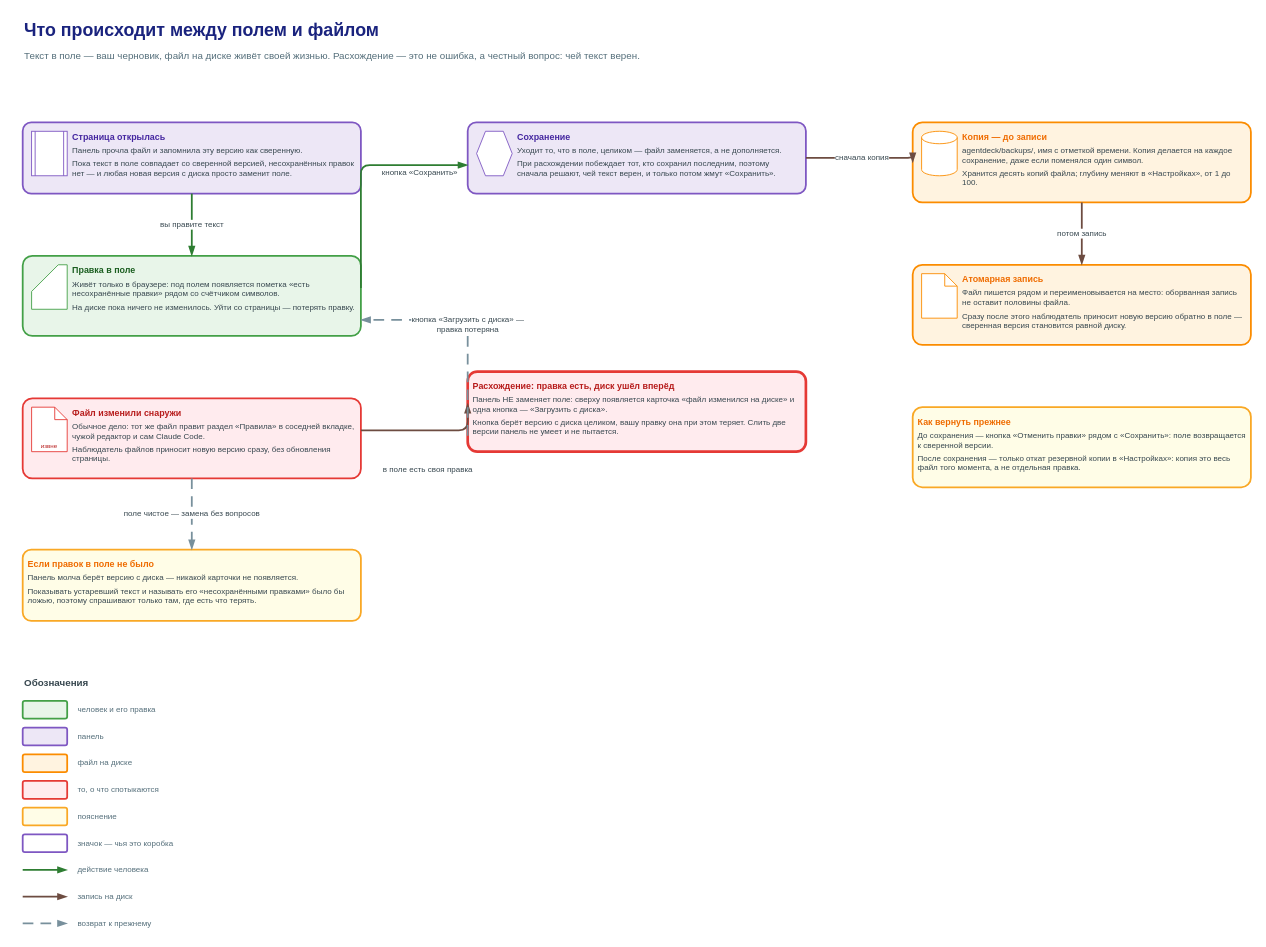
Image size: 1266x947. Some labels were removed from this diagram. Each missing label, with the box of its shape:
API: (476, 130, 512, 176)
bak: (921, 130, 957, 176)
md: (921, 273, 957, 318)
вы: (31, 264, 67, 309)
старт: (31, 130, 67, 176)
